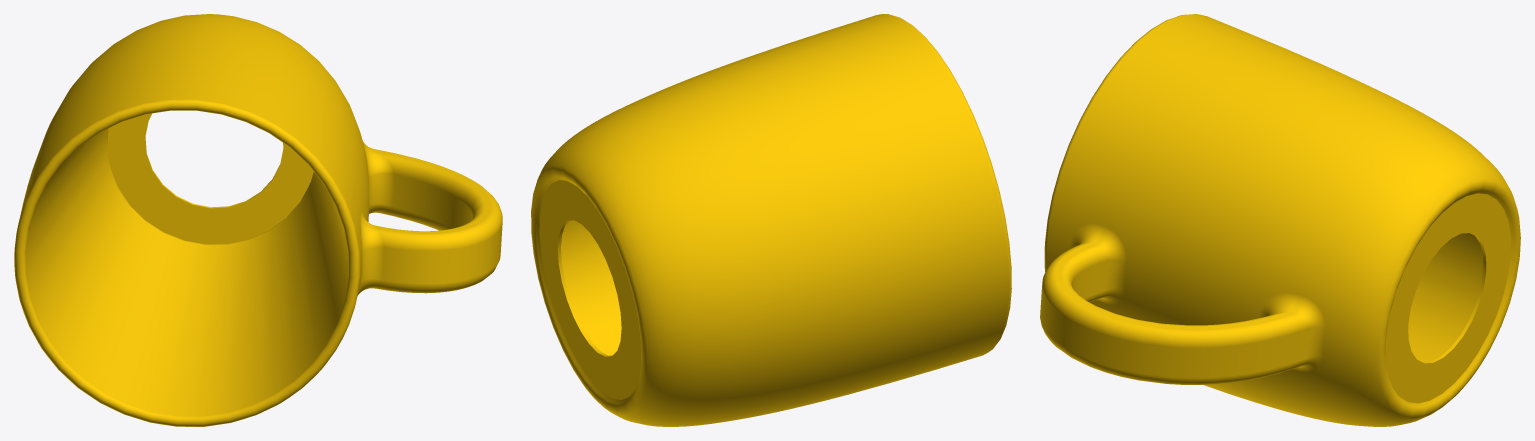
The model's file is cup3.glb.
3 renders of one model, left to right at view 1: azimuth 30°, elevation 25°; view 2: azimuth 150°, elevation 25°; view 3: azimuth 270°, elevation 25°, orthographic. The views are drawn at different scales.
Parts seen in each view (by area): view 1: cup2.003; view 2: cup2.003; view 3: cup2.003.
Part boxes in pixels (left/top/right/bottom): cup2.003: left=14, top=14, right=502, bottom=426; cup2.003: left=531, top=14, right=1011, bottom=426; cup2.003: left=1040, top=14, right=1520, bottom=426.
Size of the model in its own units: 0.8712 by 0.6245 by 0.8319.
